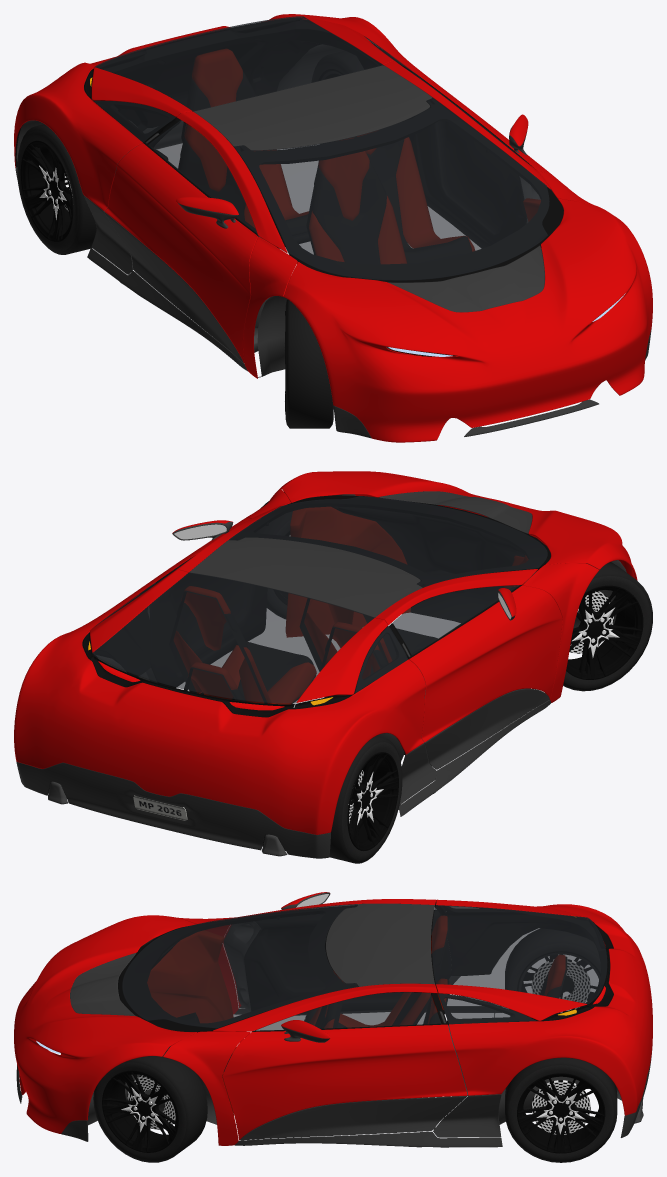
Rendered from concept.glb.
3 views of the same model, one above another, from view 1: azimuth 30°, elevation 25°; view 2: azimuth 150°, elevation 25°; view 3: azimuth 270°, elevation 25° (orthographic). The views are drawn at different scales.
Visible parts, largest first — view 1: BodyHood, BodyWindshield, BodyRearwindow, BodyDoorRColor1, BodyRearPanelsColor1, BodyRoofPanel, BodyWindshieldGasket, InteriorSeatsColor1, InteriorRearPanels, InteriorDoorL01, InteriorSeatsColor2, BodyPillars (+13 smaller); view 2: BodyRearPanelsColor1, BodyRearwindow, BodyWindshield, BodyDoorRColor1, BodyPanelsColor2, BodyRoofPanel, BodyHood, InteriorDashMid, InteriorSeatsColor1, BodyPillars, InteriorDoorL01, BodyWindshieldGasket (+16 smaller); view 3: BodyWindshield, BodyRearPanelsColor1, BodyDoorLColor1, BodyHood, BodyRearwindow, InteriorDoorR01, BodyRoofPanel, BodyPillars, InteriorRearPanels, BodyWindshieldGasket, BodyPanelsColor2, BodyDoorLColor2 (+19 smaller).
Boxes of the visible parts, x1,y1,x2,y2 form: BodyHood: (283,198,652,442); BodyWindshield: (234,98,549,280); BodyRearwindow: (94,16,382,111); BodyDoorRColor1: (104,143,257,362); BodyRearPanelsColor1: (14,14,428,210); BodyRoofPanel: (193,65,432,150); BodyWindshieldGasket: (234,99,563,282); InteriorSeatsColor1: (184,48,474,263); InteriorRearPanels: (15,20,420,210); InteriorDoorL01: (408,79,557,248); InteriorSeatsColor2: (180,72,471,264); BodyPillars: (176,61,598,378); BodyRearPanelsColor1: (14,569,425,834); BodyRearwindow: (92,572,373,703); BodyWindshield: (229,496,547,587); BodyDoorRColor1: (409,585,562,742); BodyPanelsColor2: (16,700,550,858); BodyRoofPanel: (189,537,422,617); BodyHood: (279,471,637,580); InteriorDashMid: (332,503,528,622); InteriorSeatsColor1: (174,586,391,704); BodyPillars: (175,489,599,702); InteriorDoorL01: (138,522,267,687); BodyWindshieldGasket: (230,495,550,587); BodyWindshield: (122,904,358,1028); BodyRearPanelsColor1: (436,899,652,1115); BodyDoorLColor1: (222,1024,467,1139); BodyHood: (14,915,196,1133); BodyRearwindow: (431,905,607,1004); InteriorDoorR01: (224,911,460,1015); BodyRoofPanel: (326,903,434,986); BodyPillars: (163,899,437,1145); InteriorRearPanels: (439,906,613,1095); BodyWindshieldGasket: (118,905,357,1032); BodyPanelsColor2: (16,1006,652,1147); BodyDoorLColor2: (240,1096,467,1140).
Bounding box in the file's own units: 2.54 × 1.15 × 4.36.
Materials: 18 (3 with a texture image).
